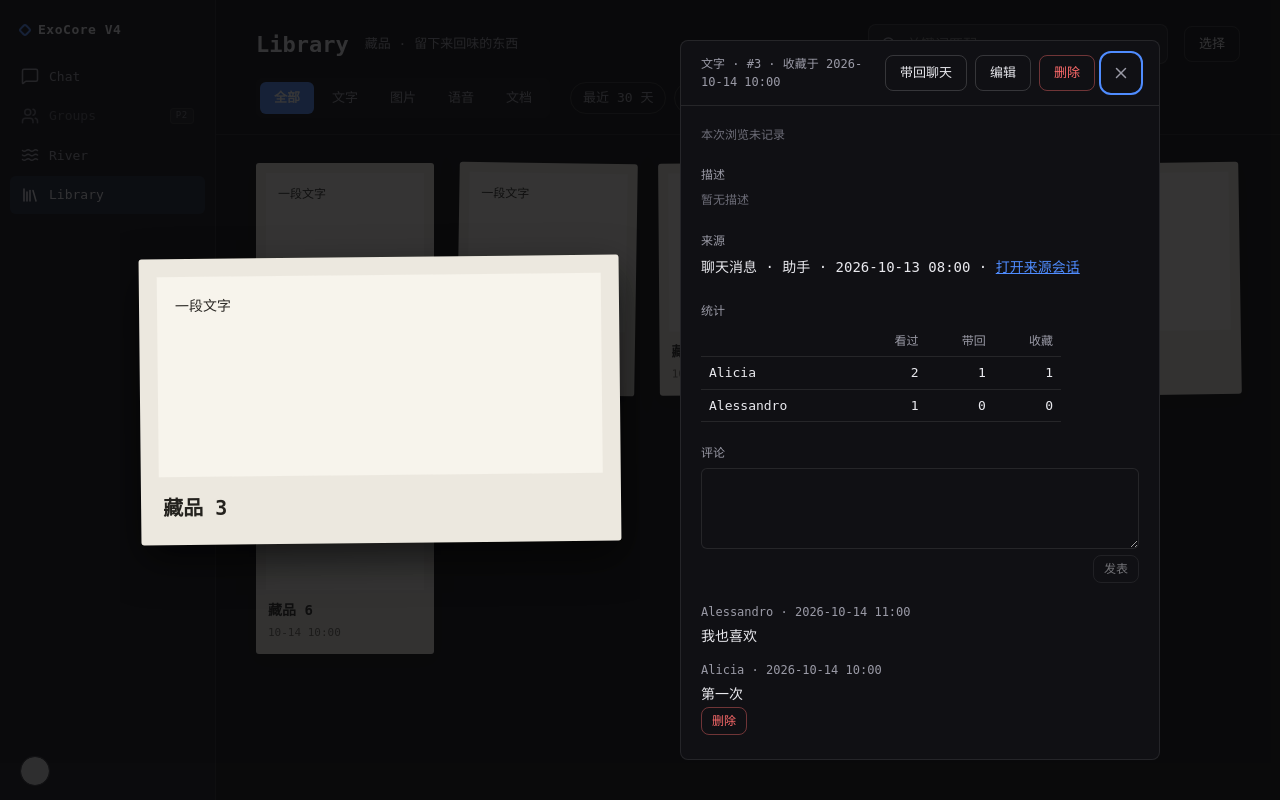
it: Library → chat bring-back (#61 CP5) › empty state: no G045 Conversation disables 带回 and links to Chat
Click the button "带回聊天" at point(926, 73), box [885,55,967,91]
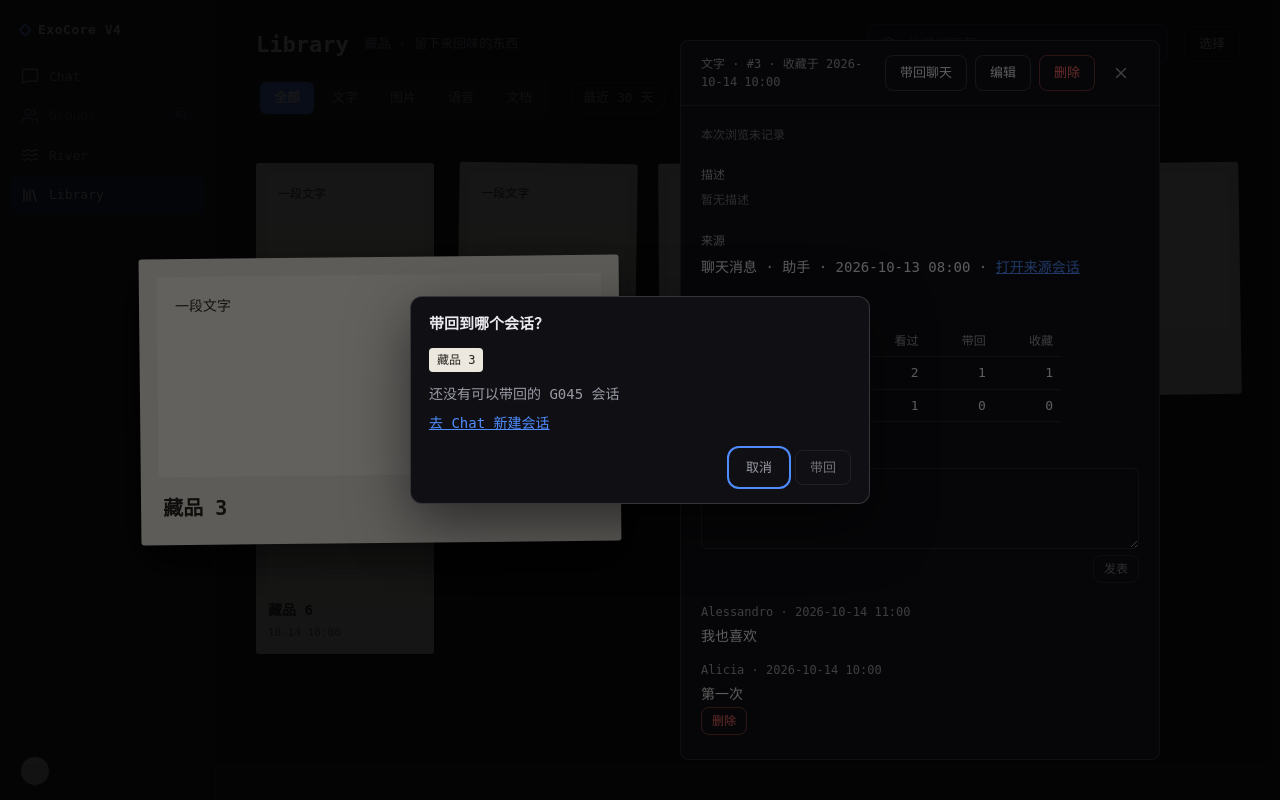
Expected: the text "还没有可以带回的 G045 会话" is shown, [429,386,620,402]
Expected: the link "去 Chat 新建会话" is shown, [429,414,550,430]
Expected: the button "带回" is disabled, [795,450,851,485]
